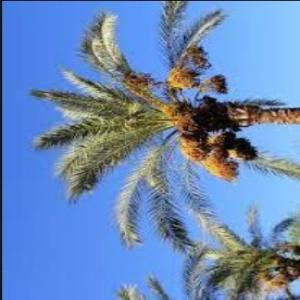palm tree: (28, 0, 298, 254)
